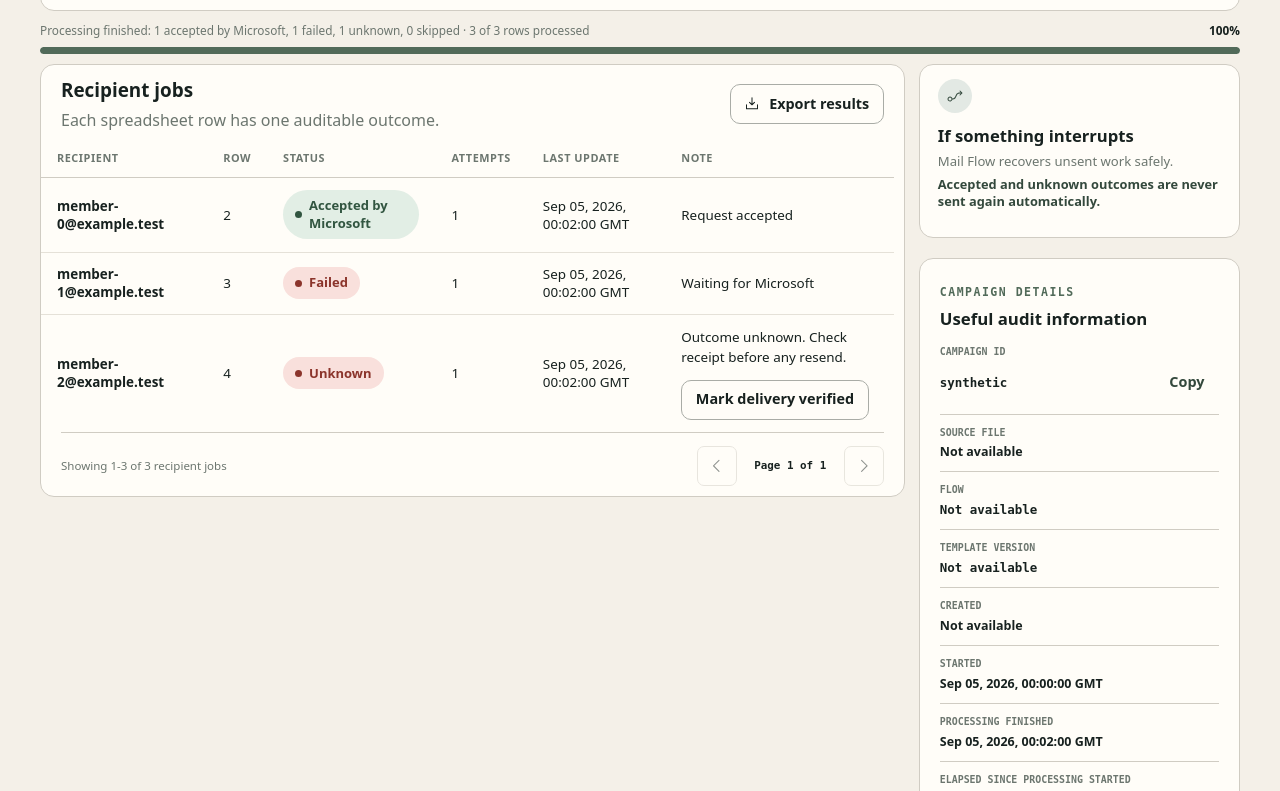
Test: campaign outcome reporting › retains an actionable error after a failed verification request
(page scrolled)
Click the button "Mark delivery verified".
click(775, 400)  # box [681,380,869,420]
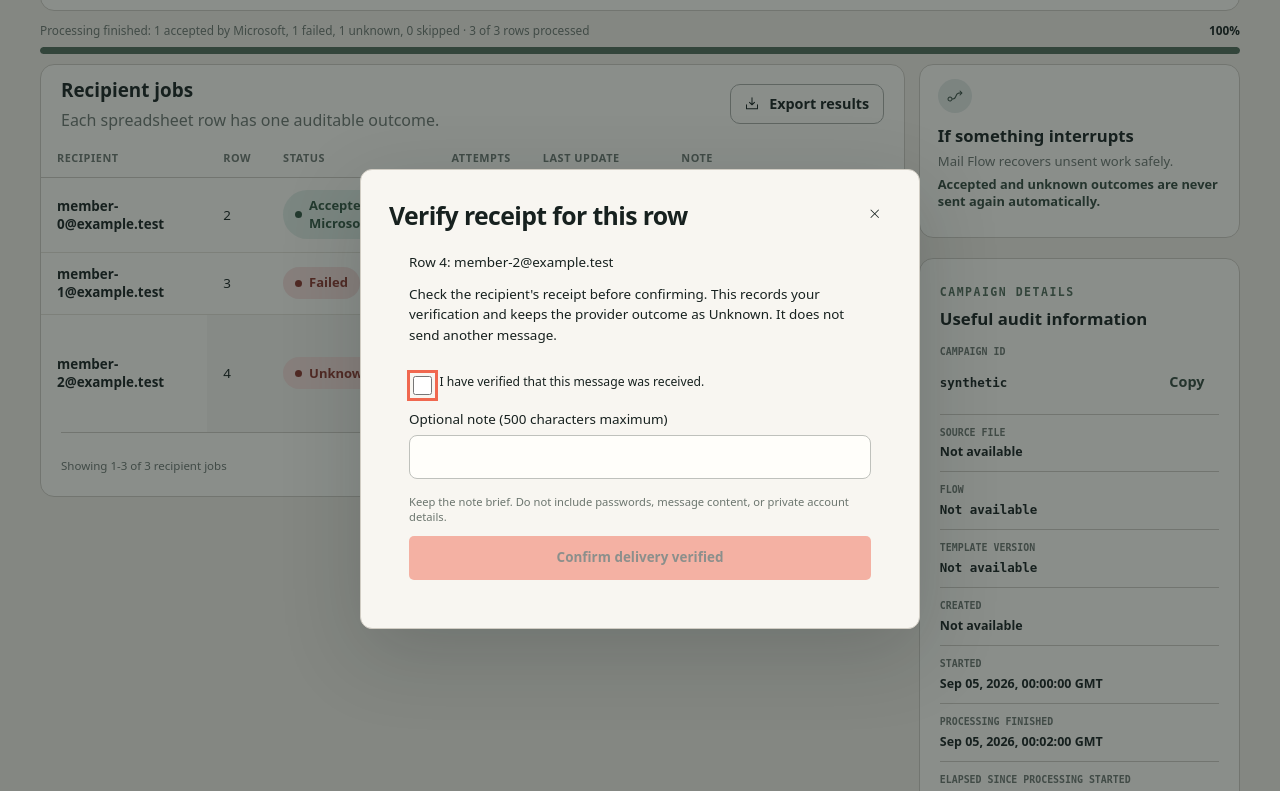
Click the checkbox.
click(422, 385)  # box [413,376,432,395]
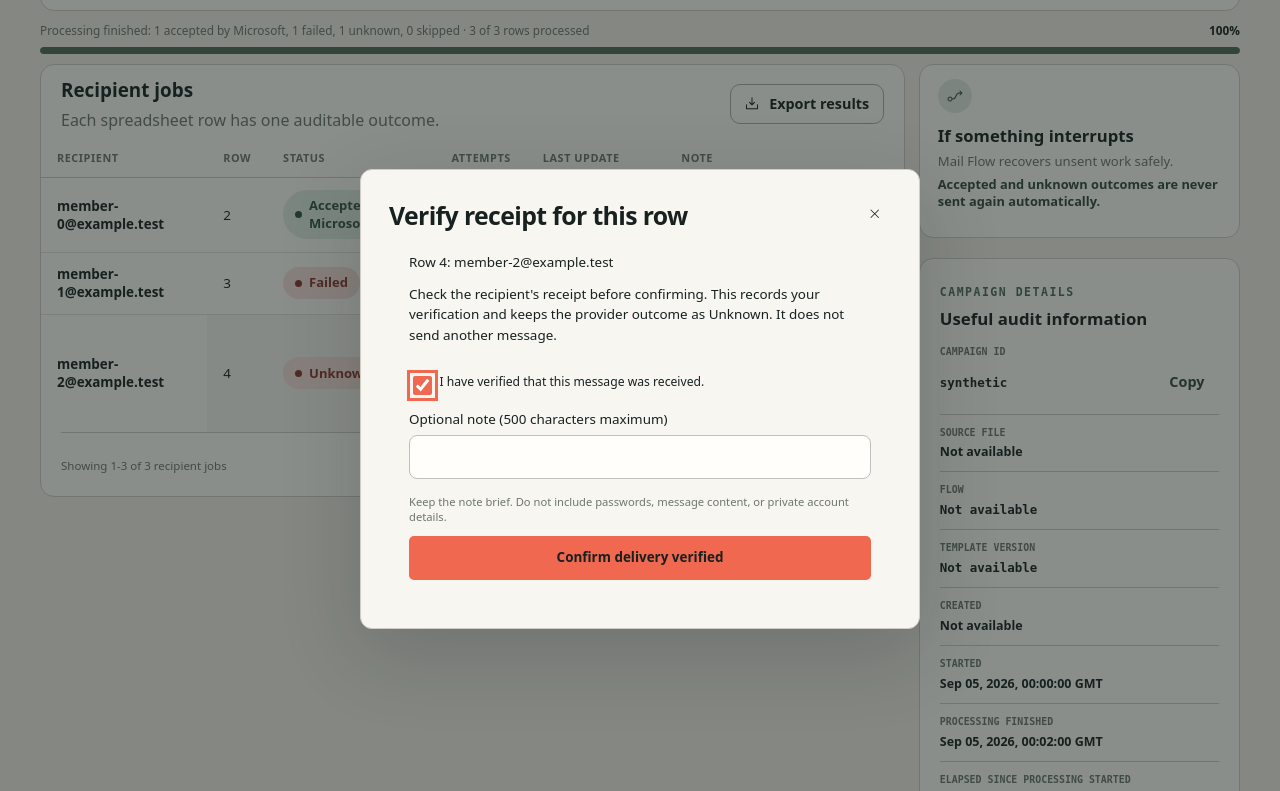
Click the button "Confirm delivery verified".
click(640, 558)  # box [409,536,871,580]
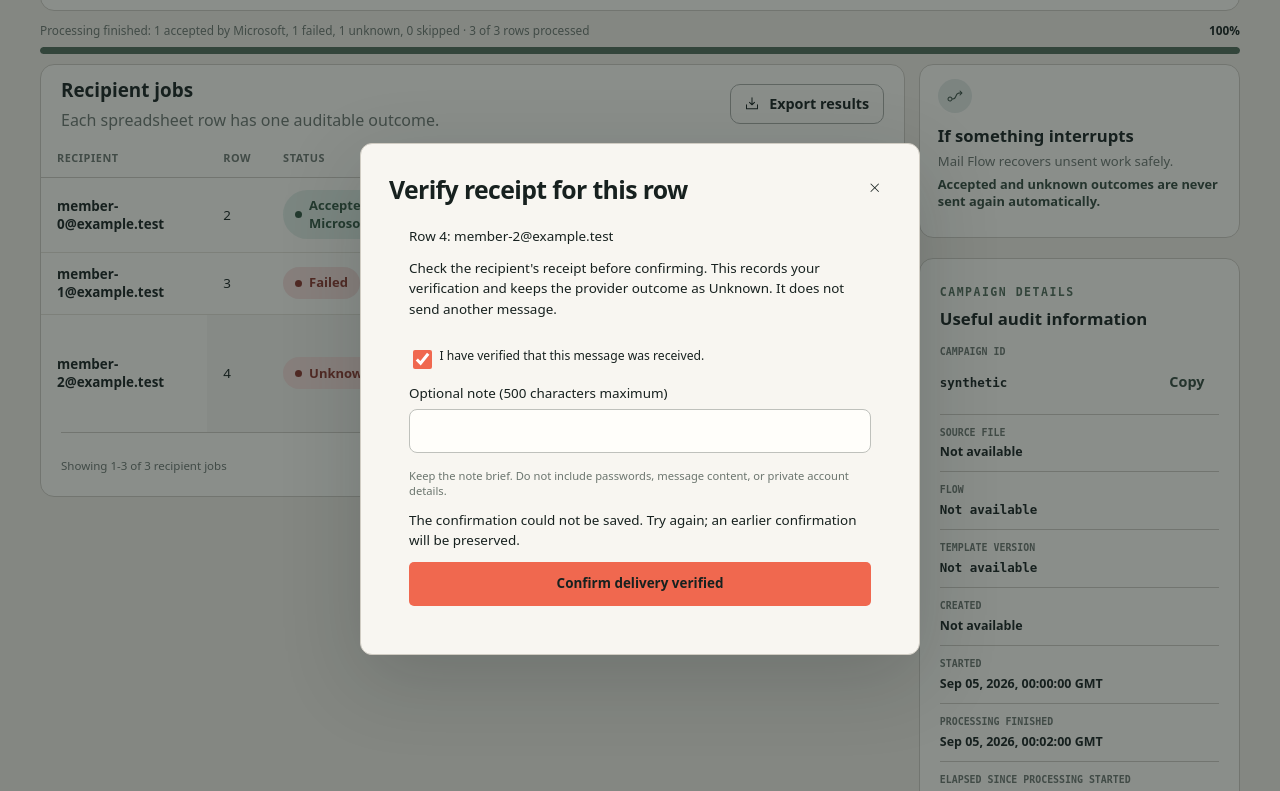
Result: the button "Confirm delivery verified" is enabled at [409,562,871,606]
Result: the message shows "confirmation could not be saved" at [409,511,856,549]
